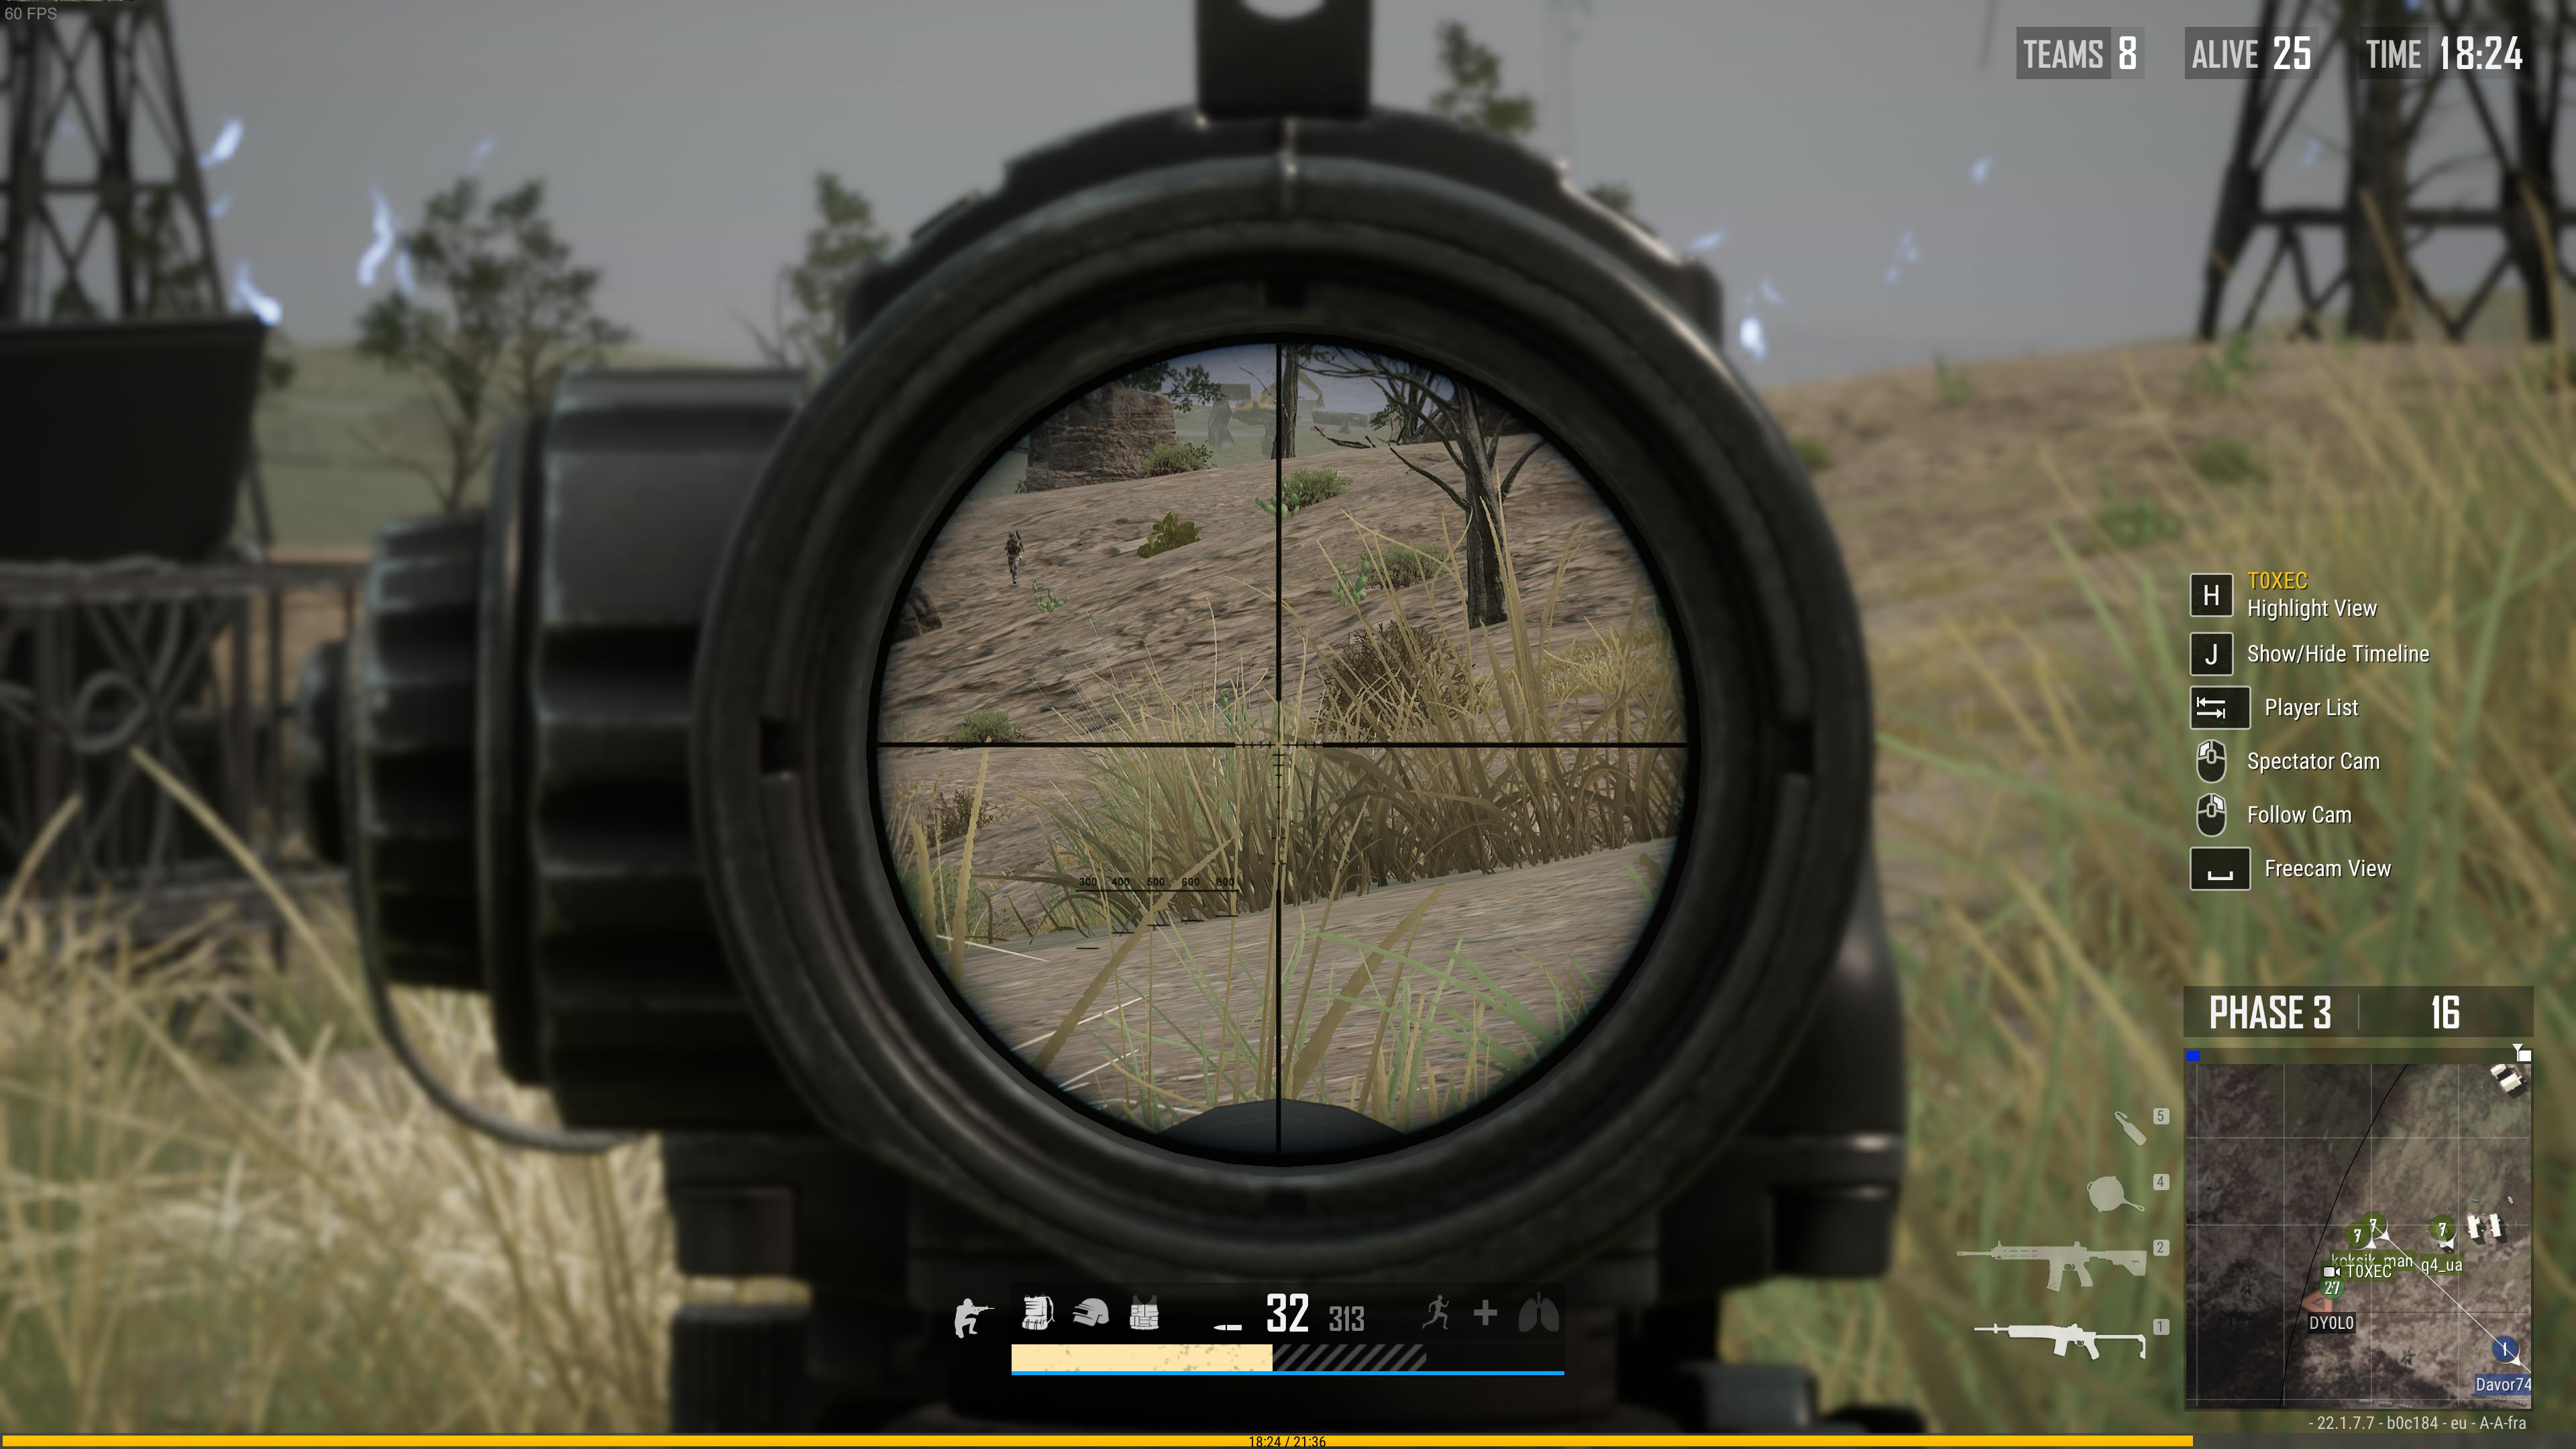enemy: (1003, 529, 1024, 584)
enemy_head: (1008, 531, 1016, 540)
